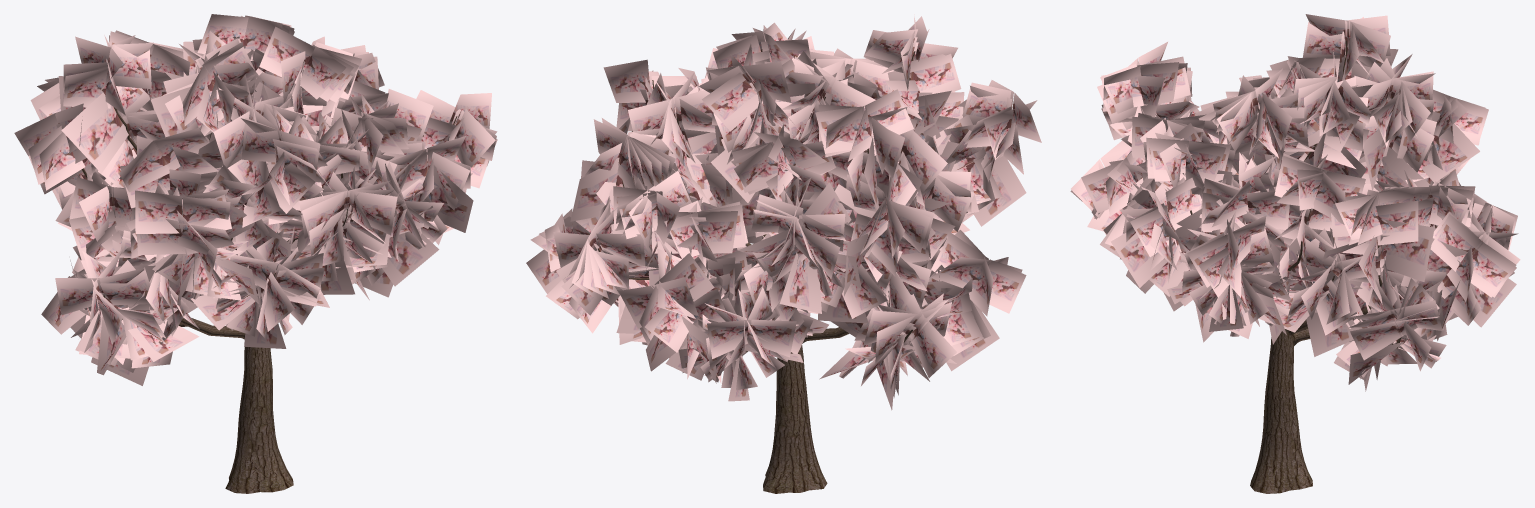
The model's file is sakura-tree.glb.
The picture shows the model from 3 angles, left to right: view 1: azimuth 30°, elevation 25°; view 2: azimuth 150°, elevation 25°; view 3: azimuth 270°, elevation 25°; orthographic projection. The views are drawn at different scales.
Visible parts, largest first — view 1: Sakura; view 2: Sakura; view 3: Sakura.
Part boxes in pixels (x1=…): Sakura: x1=14, y1=14, x2=497, y2=493; Sakura: x1=526, y1=14, x2=1041, y2=493; Sakura: x1=1070, y1=14, x2=1520, y2=493.
Size of the model in its own units: 0.4036 by 0.4172 by 0.4016.
Materials: 2 (2 with a texture image).
